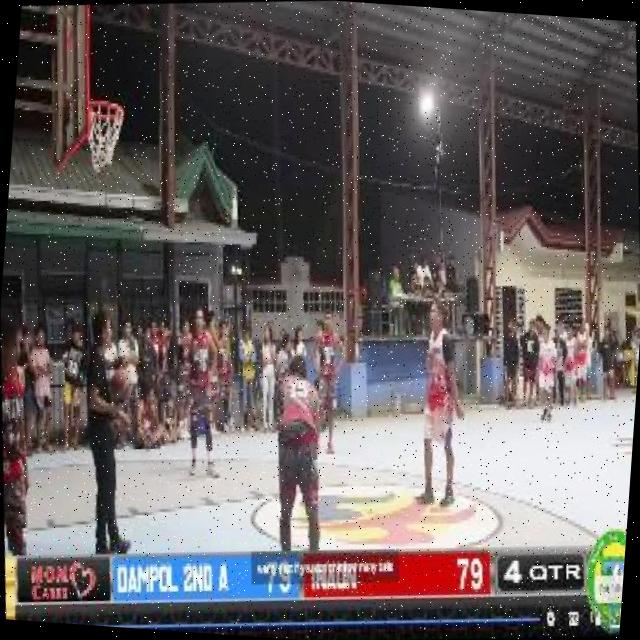ball: (104, 362, 136, 413)
hoop: (90, 94, 124, 124)
